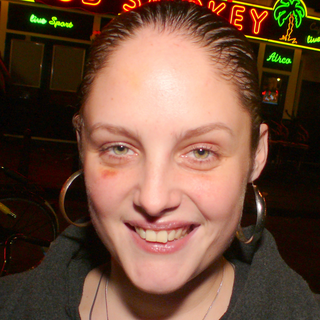eye: (177, 142, 225, 167), (94, 138, 142, 162)
